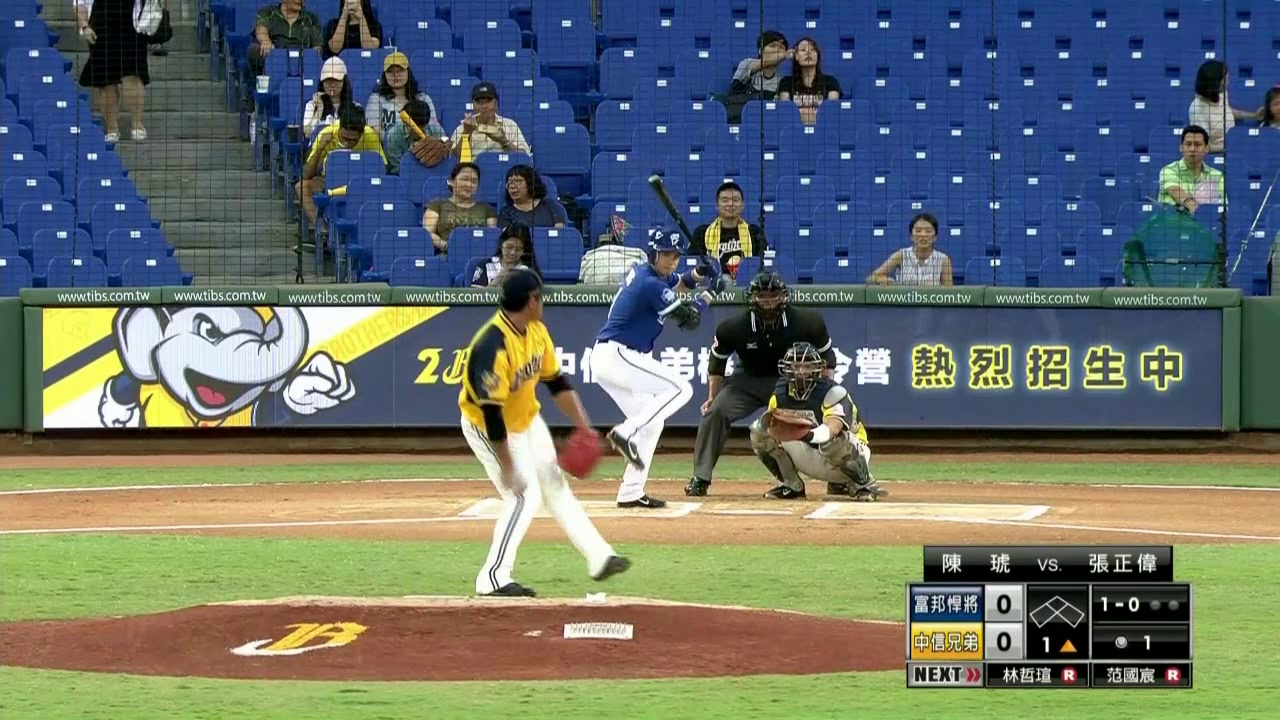ball: (511, 477, 523, 491)
base: (1027, 583, 1087, 634)
bat: (647, 176, 725, 289)
out: (1144, 594, 1186, 614)
score1: (989, 586, 1020, 620)
score2: (986, 625, 1021, 656)
session: (1027, 635, 1087, 658)
strikeball: (1098, 588, 1143, 616)
total: (1106, 627, 1164, 656)
